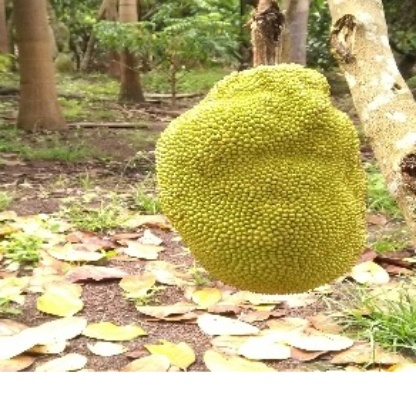mit: (152, 59, 380, 310)
